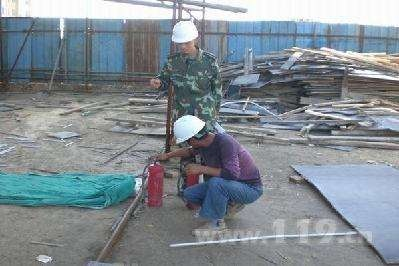white: (174, 114, 208, 152), (169, 22, 198, 54)
